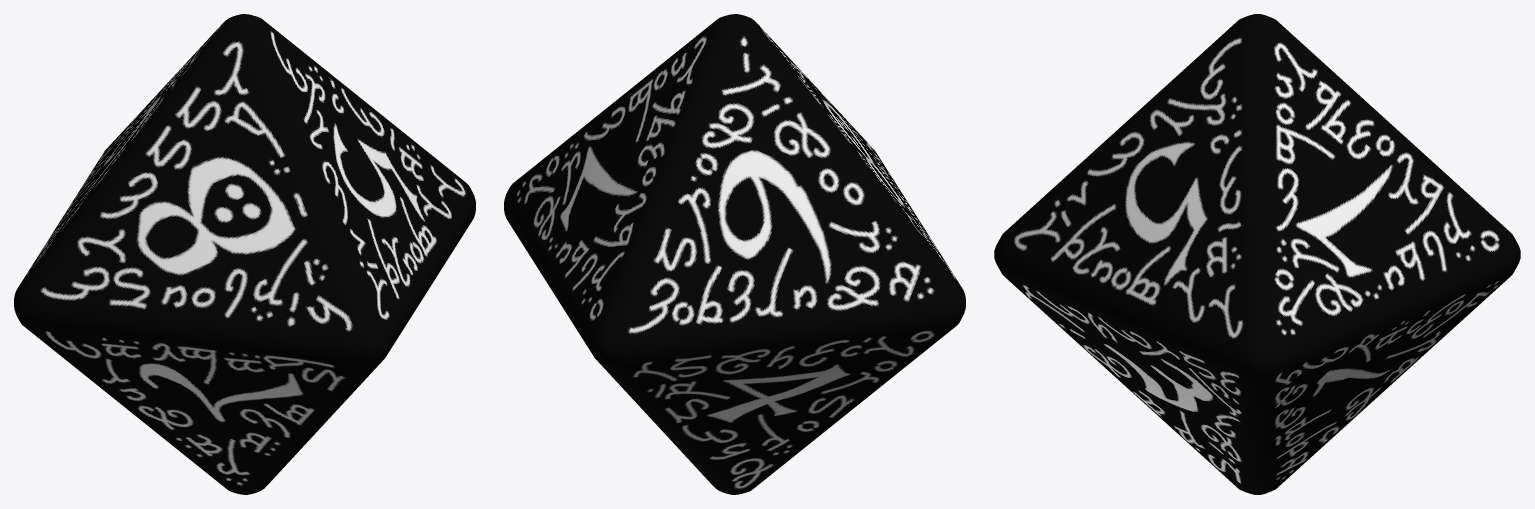
The model's file is elvish_SELV05_d8.glb.
3 renders of one model, left to right at view 1: azimuth 30°, elevation 25°; view 2: azimuth 150°, elevation 25°; view 3: azimuth 270°, elevation 25°, orthographic.
Parts seen in each view (by area): view 1: Solid.004; view 2: Solid.004; view 3: Solid.004.
Boxes of the visible parts, left/top/right/bottom form: Solid.004: left=14, top=14, right=475, bottom=494; Solid.004: left=504, top=14, right=965, bottom=494; Solid.004: left=994, top=14, right=1520, bottom=494.
Size of the model in its own units: 183 by 183 by 183.
1 material, 1 textured.
